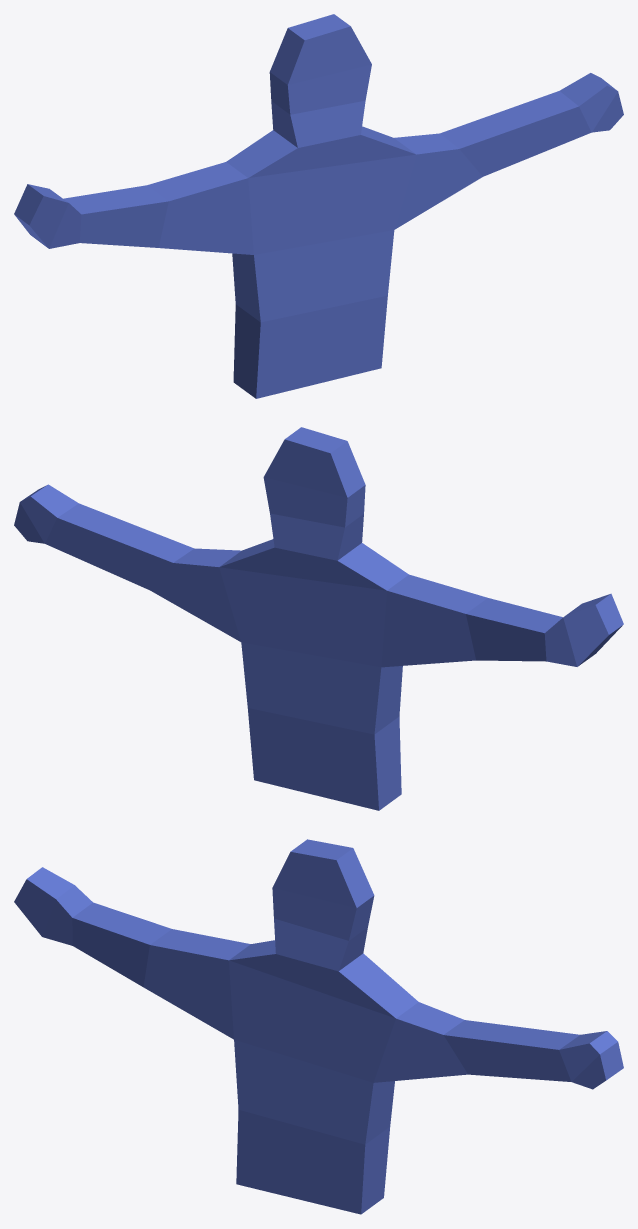
Rendered from SM_GodBlue.fbx.
3 renders of one model, top to bottom at view 1: azimuth 30°, elevation 25°; view 2: azimuth 150°, elevation 25°; view 3: azimuth 330°, elevation 25°, orthographic.
Visible parts, largest first — view 1: SM_GodBlue; view 2: SM_GodBlue; view 3: SM_GodBlue.
Part boxes in pixels (x1,y1,x2,y2): SM_GodBlue: (14,14,623,398); SM_GodBlue: (14,427,623,810); SM_GodBlue: (14,839,623,1214).
Size of the model in its own units: 785 by 437 by 62.49.
